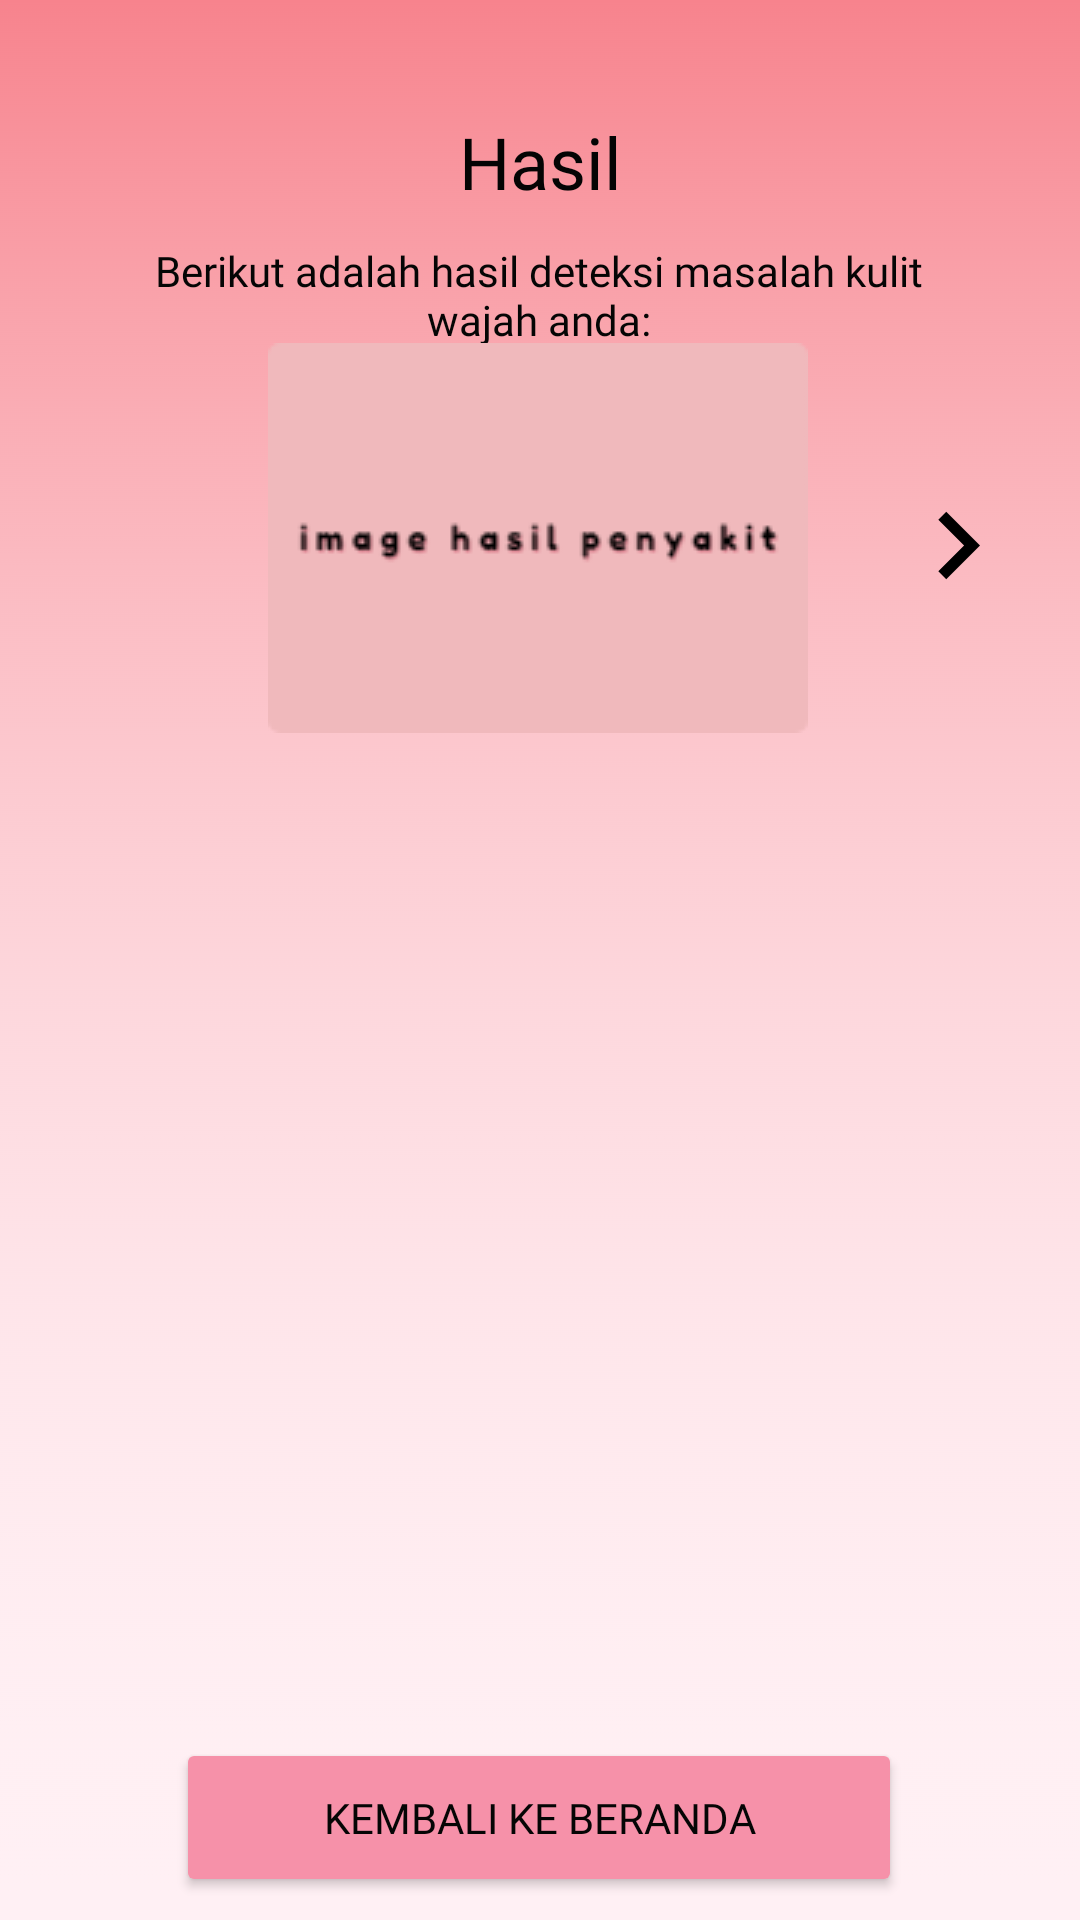

Where to tap for icons on this 1080*1920 app screen, as [x,y]:
next kecil: [959,545]
